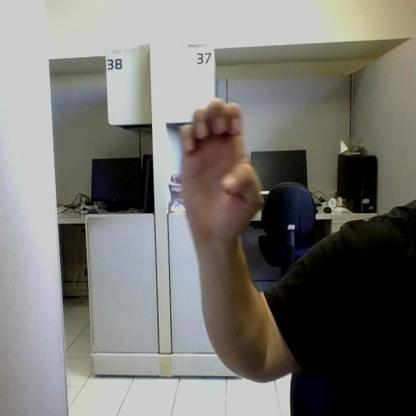E: (182, 98, 261, 231)
